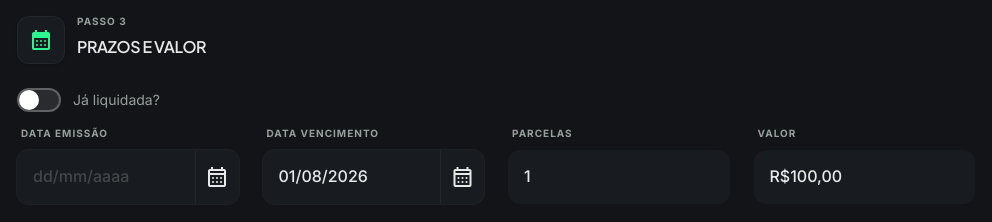
Scenario: TermsValueSection › shows Data de Liquidação label and Liquidada badge when switch toggled on
What coordinates should you click on to do the following:
click the switch
I would click on:
 (39, 100)
Its box is [17,88,61,112].
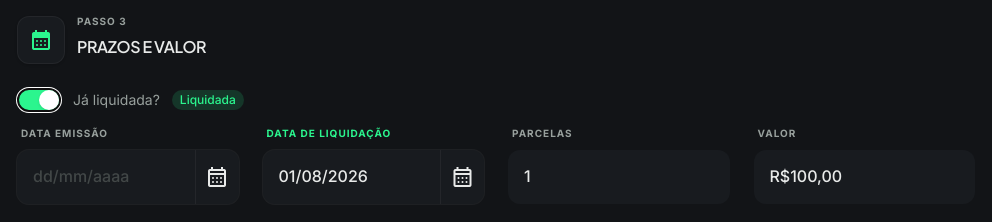
Expected: the text "Data de Liquidação" is shown, [266,127,391,139]
Expected: the text "Liquidada" is shown, [172,90,244,110]
